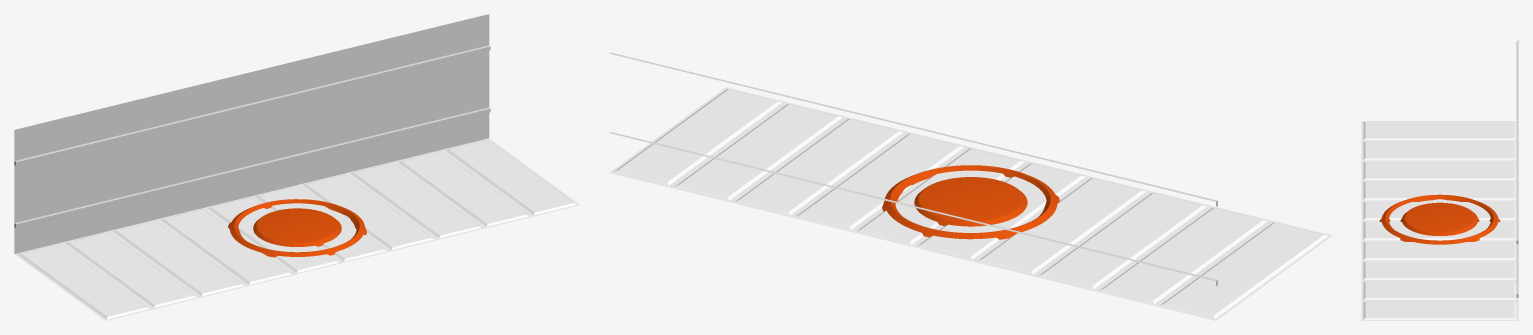
File: mats_platform_2k_comp.glb
The picture shows the model from 3 angles, left to right: view 1: azimuth 30°, elevation 25°; view 2: azimuth 150°, elevation 25°; view 3: azimuth 270°, elevation 25°; orthographic projection. The views are drawn at different scales.
Visible parts, largest first — view 1: wall, floor, platform; view 2: floor, platform, wall; view 3: floor, platform, wall.
Part boxes in pixels (x1,y1,x2,y2): wall: (14, 14, 490, 253); floor: (14, 138, 579, 320); platform: (228, 199, 366, 257); floor: (609, 87, 1332, 320); platform: (882, 165, 1059, 239); wall: (609, 52, 1217, 286); floor: (1361, 121, 1518, 320); platform: (1379, 194, 1500, 244); wall: (1516, 40, 1518, 297).
Size of the model in its own units: 12 by 3 by 4.
